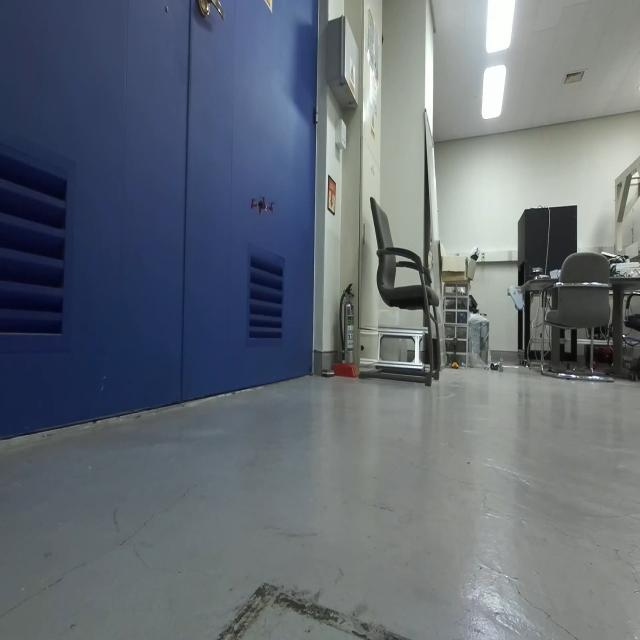crazyflie: (248, 190, 283, 226)
